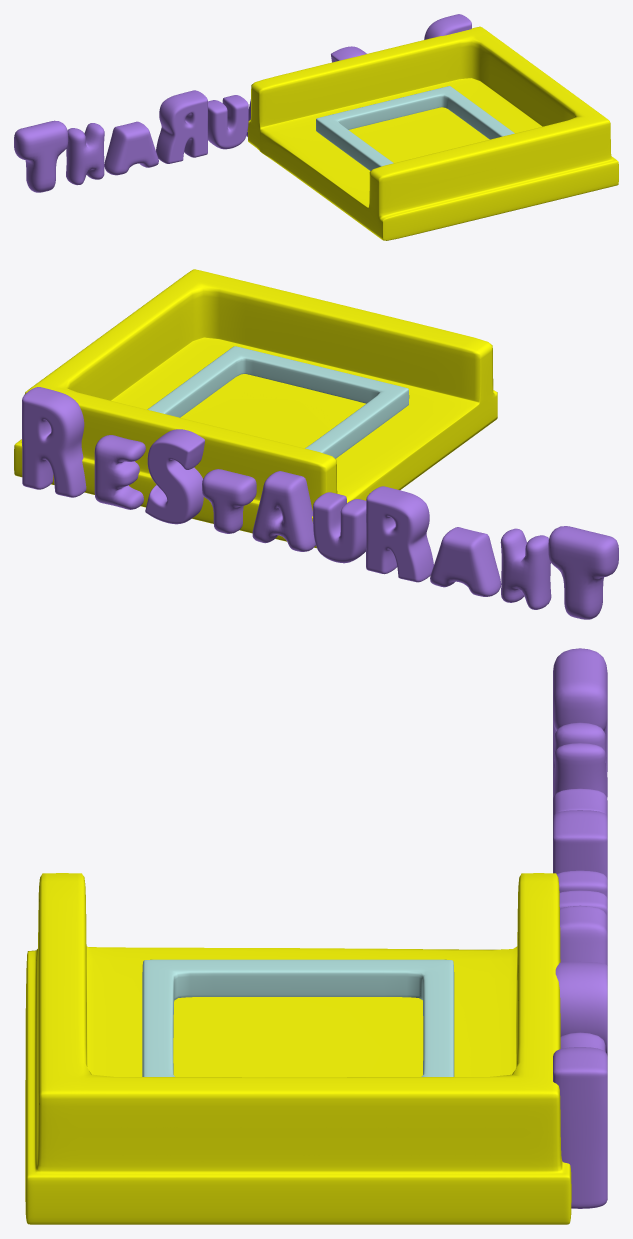
The picture shows the model from 3 angles, top to bottom: view 1: azimuth 30°, elevation 25°; view 2: azimuth 150°, elevation 25°; view 3: azimuth 270°, elevation 25°; orthographic projection. The views are drawn at different scales.
Parts seen in each view (by area): view 1: polySurface1230; view 2: polySurface1230; view 3: polySurface1230.
Part boxes in pixels (x1,y1,x2,y2): polySurface1230: (14, 14, 618, 240); polySurface1230: (14, 269, 618, 619); polySurface1230: (25, 648, 607, 1224).
Bounding box in the file's own units: 1.96 × 0.2877 × 1.07.
